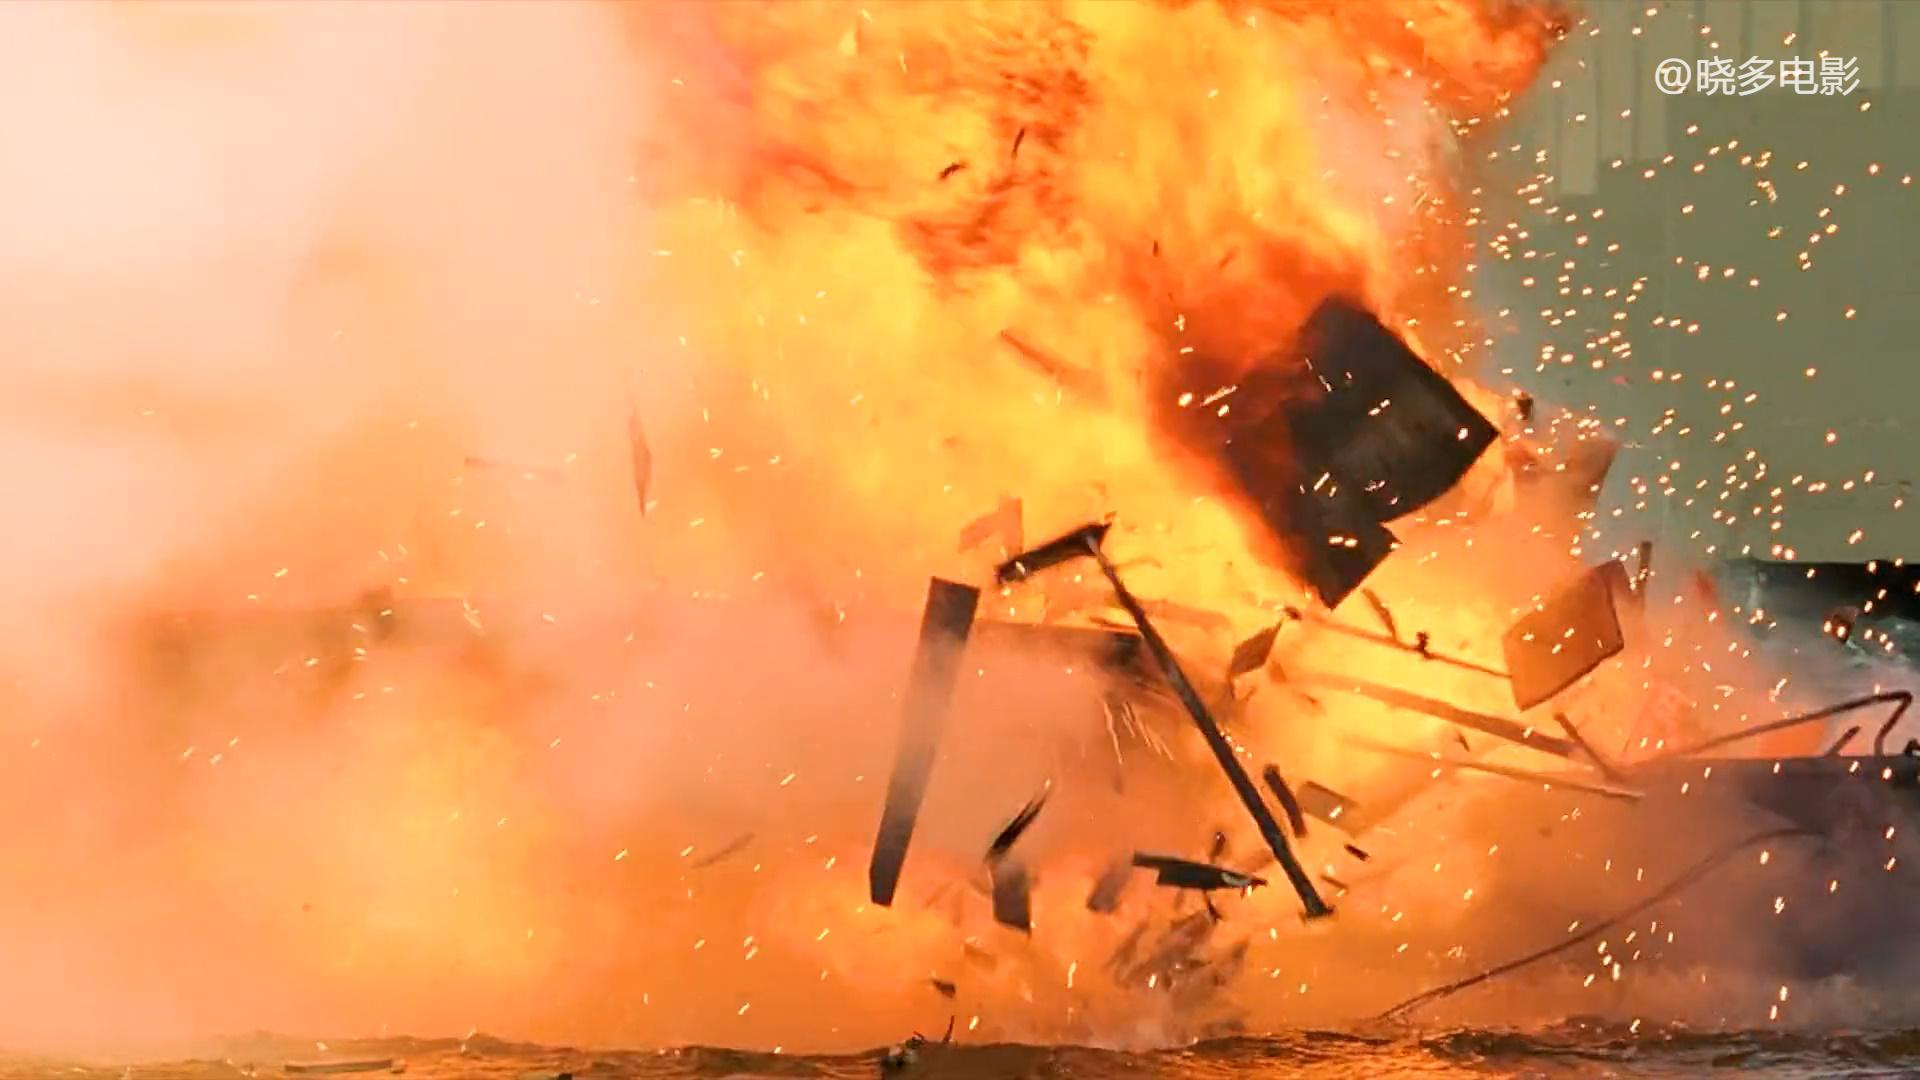fire: (232, 0, 1644, 1023)
